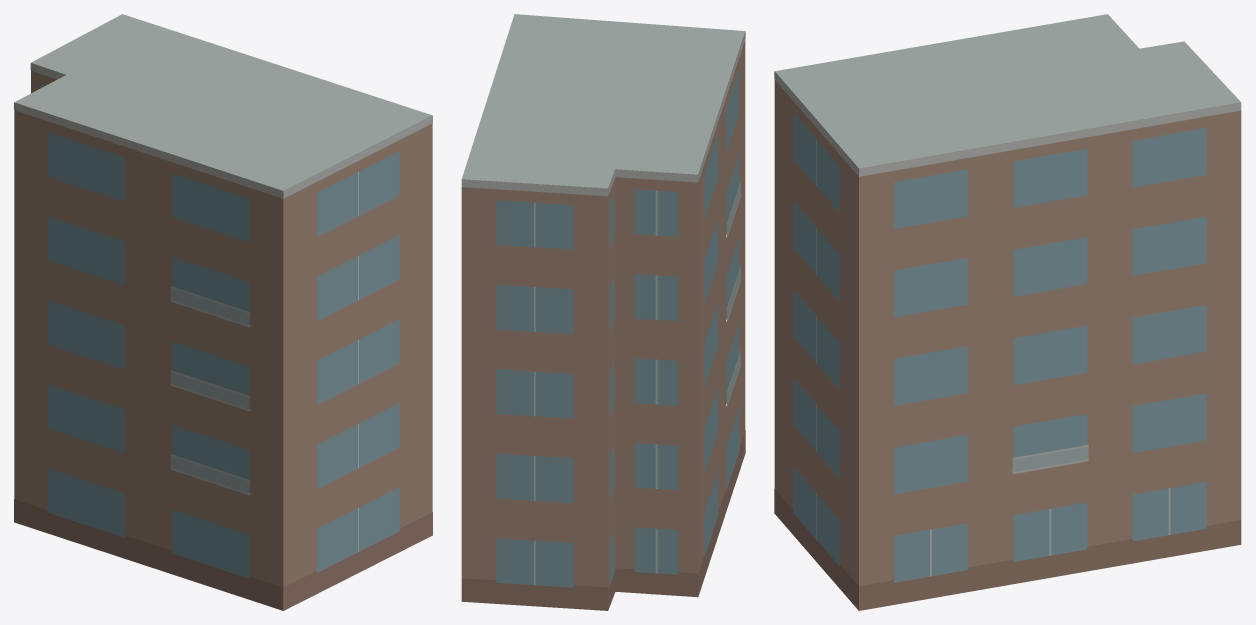
File: survey-upis-32477416.glb
3 views of the same model, side by side, from view 1: azimuth 30°, elevation 25°; view 2: azimuth 150°, elevation 25°; view 3: azimuth 270°, elevation 25° (orthographic). The views are drawn at different scales.
Visible parts, largest first — view 1: survey-upis-32477416.tmp; view 2: survey-upis-32477416.tmp; view 3: survey-upis-32477416.tmp.
Part boxes in pixels (x1,y1,x2,y2): survey-upis-32477416.tmp: [14, 14, 432, 610]; survey-upis-32477416.tmp: [461, 14, 745, 610]; survey-upis-32477416.tmp: [774, 14, 1241, 610].
Bounding box in the file's own units: 9.82 × 13.1 × 12.54.
